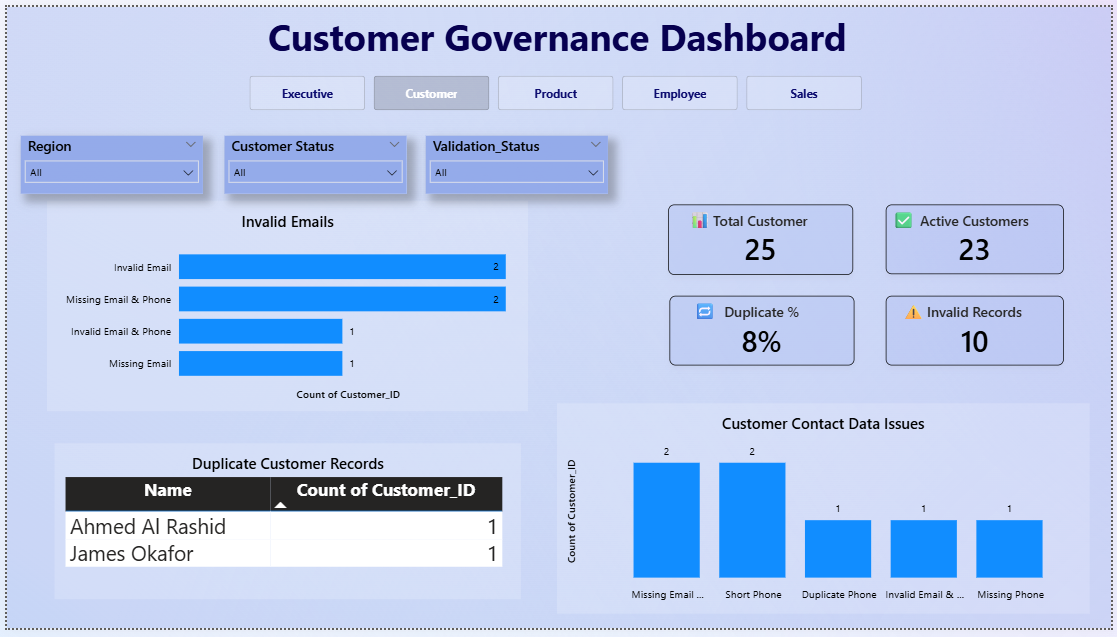

Layout of this report page (visuals, bound fields, positions):
{"tool":"powerbi","page":{"name":"Customer","canvas":[1280,720],"ordinal":1},"visuals":[{"type":"clusteredBarChart","title":"Invalid Emails","fields":{"Category":["customer_data.Issue_Flag"],"Y":["CountNonNull(customer_data.Customer_ID)"]},"box":[46.5,225.3,557.9,244.4],"z":0},{"type":"tableEx","title":"Duplicate Customer Records","fields":{"Values":["customer_data.Name","CountNonNull(customer_data.Customer_ID)"]},"box":[54.8,505.4,541.2,181.2],"z":1000},{"type":"slicer","fields":{"Values":["customer_data.Region"]},"box":[15.5,149.1,211.2,67.1],"z":2000},{"type":"slicer","fields":{"Values":["customer_data.Validation_Status"]},"box":[485.7,149.1,211.2,67.1],"z":3000},{"type":"slicer","fields":{"Values":["customer_data.Status"]},"box":[252.2,149.1,211.2,67.1],"z":4000},{"type":"textbox","box":[189.4,0,896.3,67.1],"z":5000},{"type":"columnChart","title":"Customer Contact Data Issues","fields":{"Category":["customer_data.Issue_Flag"],"Y":["CountNonNull(customer_data.Customer_ID)"]},"box":[637.7,460.1,617.5,244.4],"z":6000},{"type":"cardVisual","fields":{"Data":["customer_data.Count of Customer_ID"]},"box":[767,228.6,214.5,81.3],"z":7000},{"type":"cardVisual","fields":{"Data":["customer_data.Active_Customers"]},"box":[1019.2,228.9,206.2,81.1],"z":8000},{"type":"cardVisual","fields":{"Data":["customer_data.Invalid Records"]},"box":[1019.3,335.2,206.2,80.7],"z":9000},{"type":"cardVisual","fields":{"Data":["customer_data.Duplicate Records %"]},"box":[767.7,335,214.6,81.1],"z":10000},{"type":"textbox","box":[785.5,228.9,40.5,40.5],"z":11000},{"type":"textbox","box":[1022.3,229,34.8,40.2],"z":12000},{"type":"textbox","box":[791.1,335.4,38.1,42.8],"z":13000},{"type":"textbox","box":[1032.6,335.4,32,37.5],"z":14000},{"type":"pageNavigator","box":[280.5,79.3,714.9,40.2],"z":15000}]}

Visuals, with their boxes in screenshot pixels (x1, y1, x2, y2), scaled from the page's 1280x720 canvas onto the 1117x637 screenshot:
"Invalid Emails" clusteredBarChart: x1=41, y1=199, x2=527, y2=416
"Duplicate Customer Records" tableEx: x1=48, y1=447, x2=520, y2=607
slicer - customer_data.Region: x1=14, y1=132, x2=198, y2=191
slicer - customer_data.Validation_Status: x1=424, y1=132, x2=608, y2=191
slicer - customer_data.Status: x1=220, y1=132, x2=404, y2=191
textbox: x1=165, y1=0, x2=947, y2=59
"Customer Contact Data Issues" columnChart: x1=556, y1=407, x2=1095, y2=623
cardVisual - customer_data.Count of Customer_ID: x1=669, y1=202, x2=857, y2=274
cardVisual - customer_data.Active_Customers: x1=889, y1=203, x2=1069, y2=274
cardVisual - customer_data.Invalid Records: x1=889, y1=297, x2=1069, y2=368
cardVisual - customer_data.Duplicate Records %: x1=670, y1=296, x2=857, y2=368
textbox: x1=685, y1=203, x2=721, y2=238
textbox: x1=892, y1=203, x2=922, y2=238
textbox: x1=690, y1=297, x2=724, y2=335
textbox: x1=901, y1=297, x2=929, y2=330
pageNavigator: x1=245, y1=70, x2=869, y2=106
